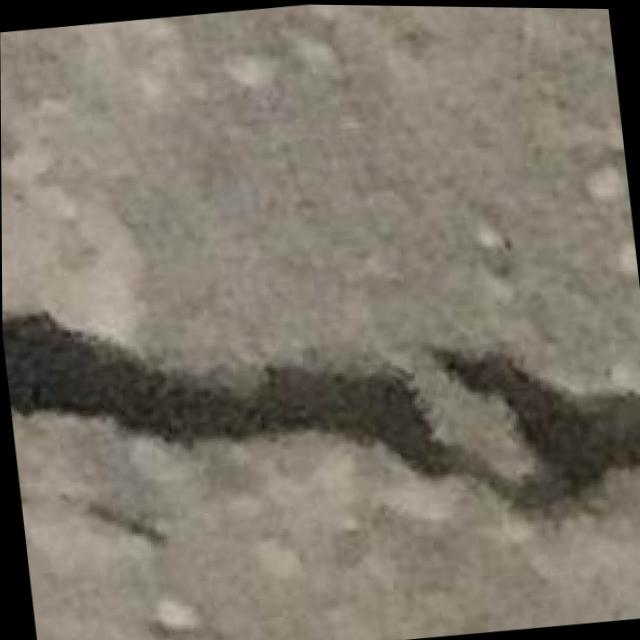Crack: (1, 231, 640, 563)
